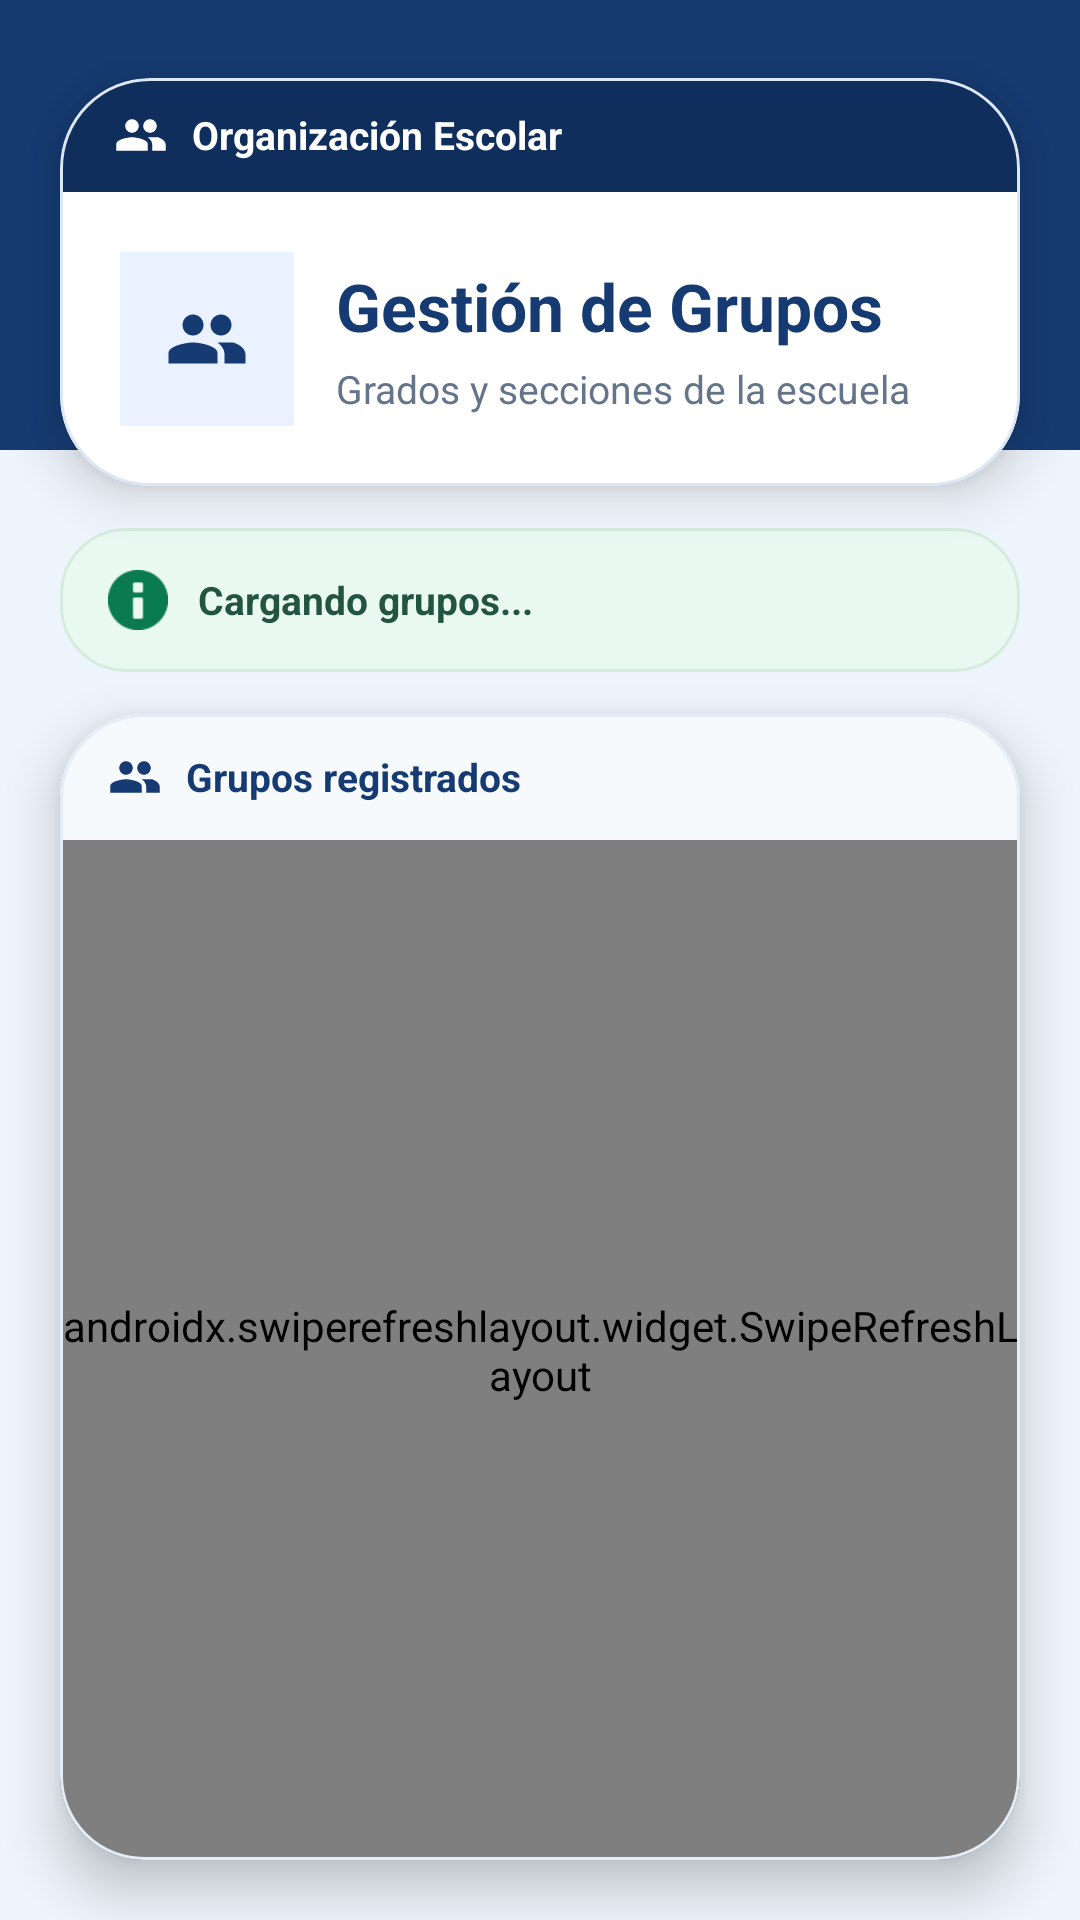

Icons on this 1080×1920 Android screen, each with the point to tap as [x,y]:
info: [138,600]
